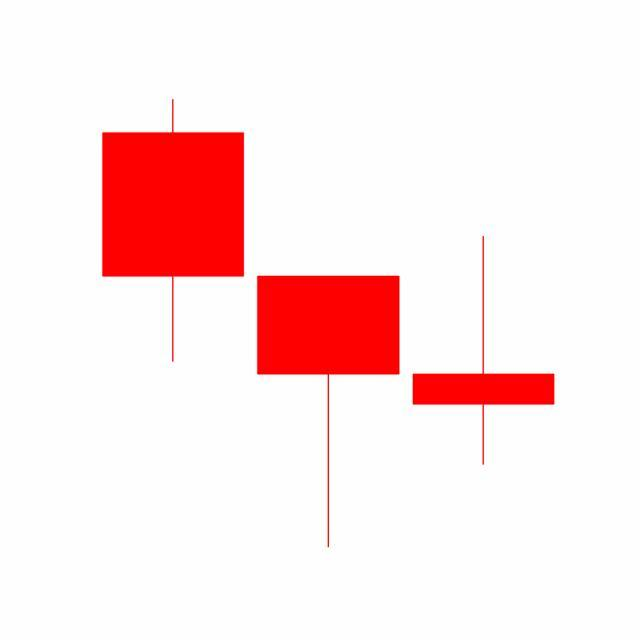Spinning Top: (406, 235, 562, 469)
